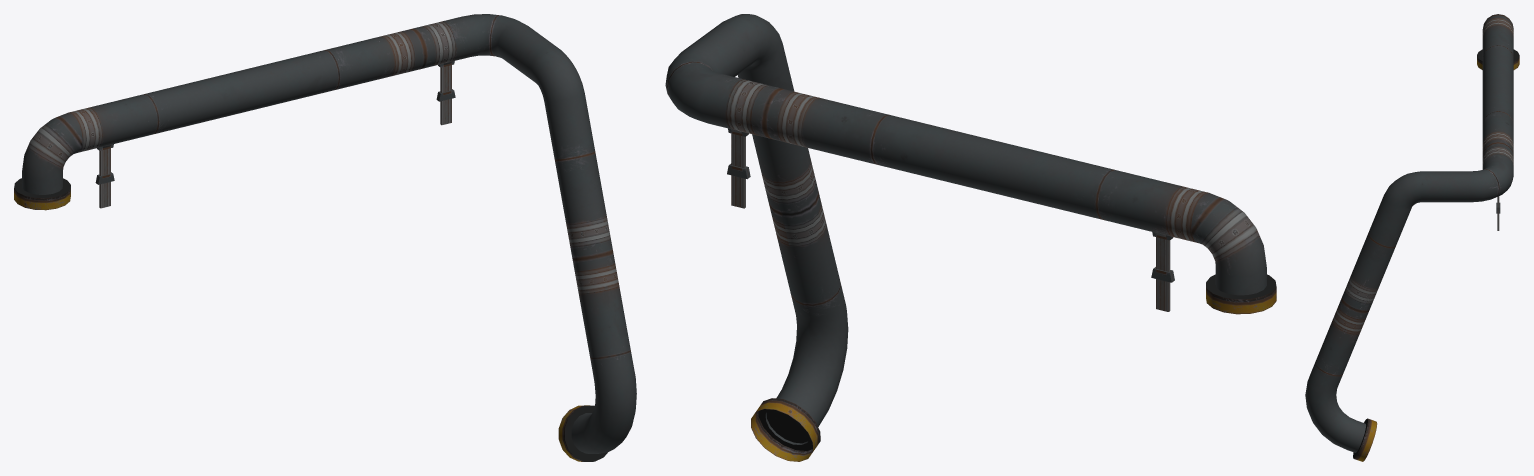
The model's file is Wall3_Pipe2_L0.fbx.
3 views of the same model, side by side, from view 1: azimuth 30°, elevation 25°; view 2: azimuth 150°, elevation 25°; view 3: azimuth 270°, elevation 25° (orthographic). The views are drawn at different scales.
Parts seen in each view (by area): view 1: Wall3_Pipe2_L0; view 2: Wall3_Pipe2_L0; view 3: Wall3_Pipe2_L0.
Boxes of the visible parts, x1,y1,x2,y2 form: Wall3_Pipe2_L0: (14, 14, 636, 461); Wall3_Pipe2_L0: (665, 14, 1276, 461); Wall3_Pipe2_L0: (1305, 14, 1519, 461).
Size of the model in its own units: 349 by 254 by 172.
